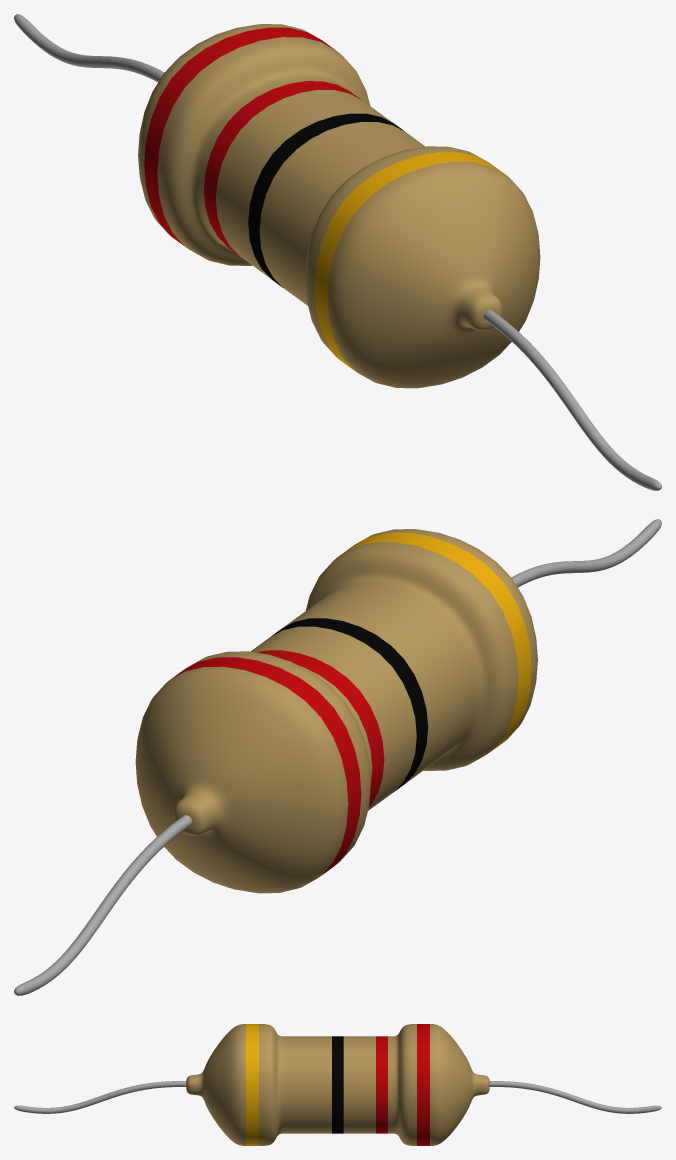
File: Resistencia.fbx
3 views of the same model, one above another, from view 1: azimuth 30°, elevation 25°; view 2: azimuth 150°, elevation 25°; view 3: azimuth 270°, elevation 25° (orthographic). The views are drawn at different scales.
Parts seen in each view (by area): view 1: Cube; view 2: Cube; view 3: Cube.
Boxes of the visible parts, x1,y1,x2,y2 form: Cube: (14,14,661,490); Cube: (14,519,661,995); Cube: (14,1024,661,1145).
Size of the model in its own units: 152 by 152 by 823.
